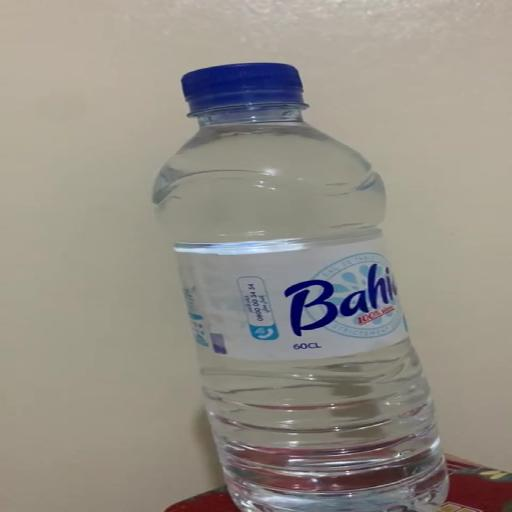bouteille conformite: (114, 56, 458, 512)
